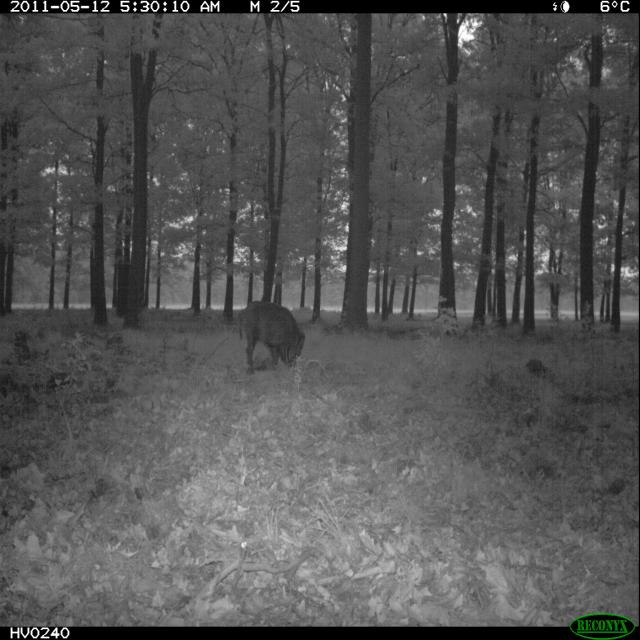boar: (223, 287, 327, 398)
